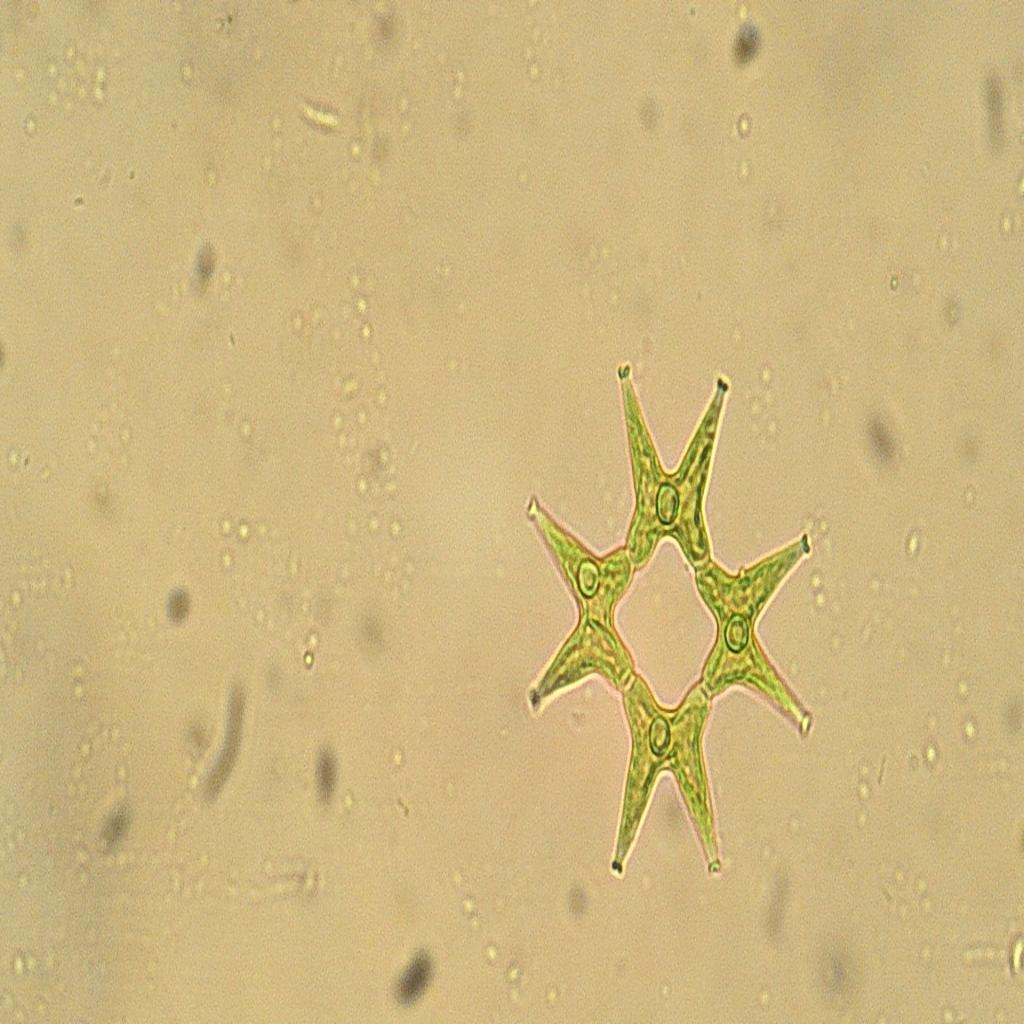Pediastrum_CO: (523, 337, 819, 885)
